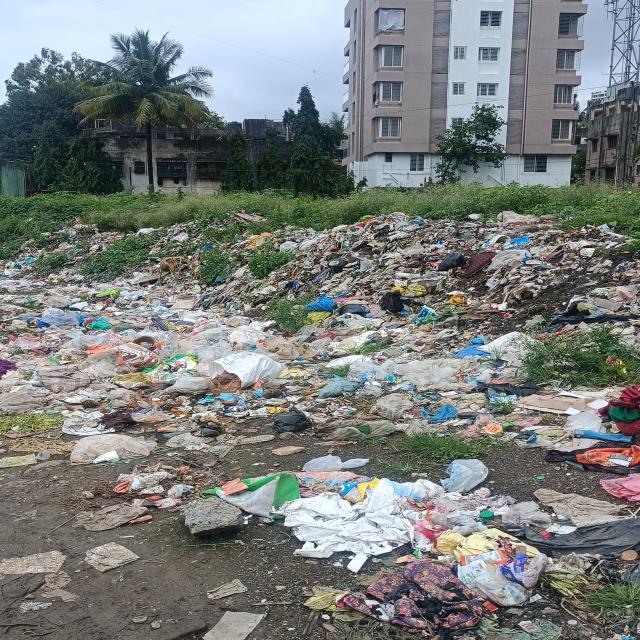garbage: (0, 228, 640, 455), (225, 462, 640, 640)
